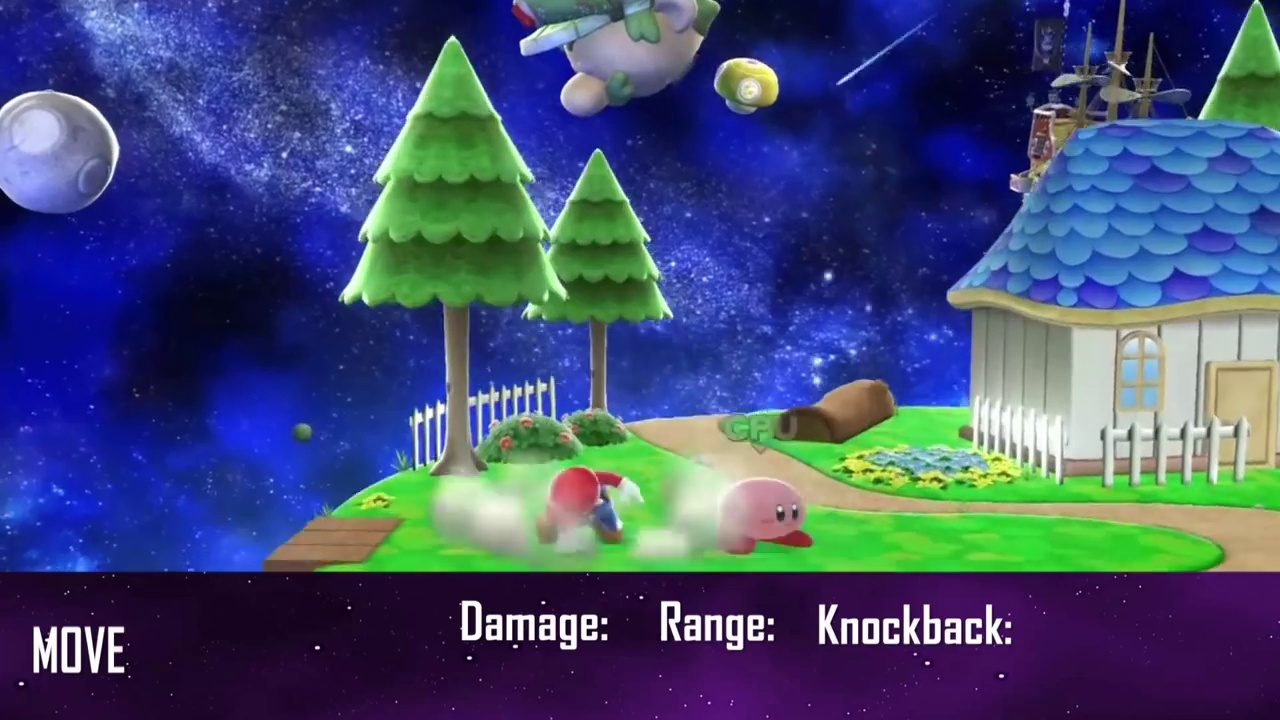Mario: (539, 468, 644, 545)
